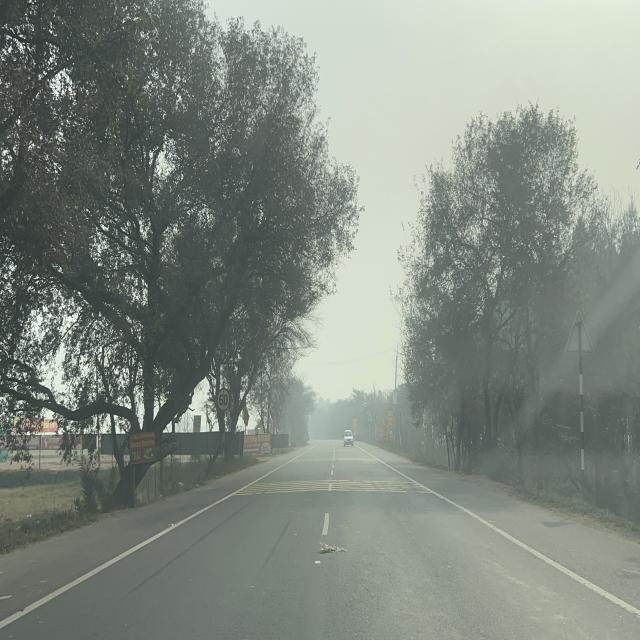SPEED_LIMIT_60: (217, 388, 230, 412)
